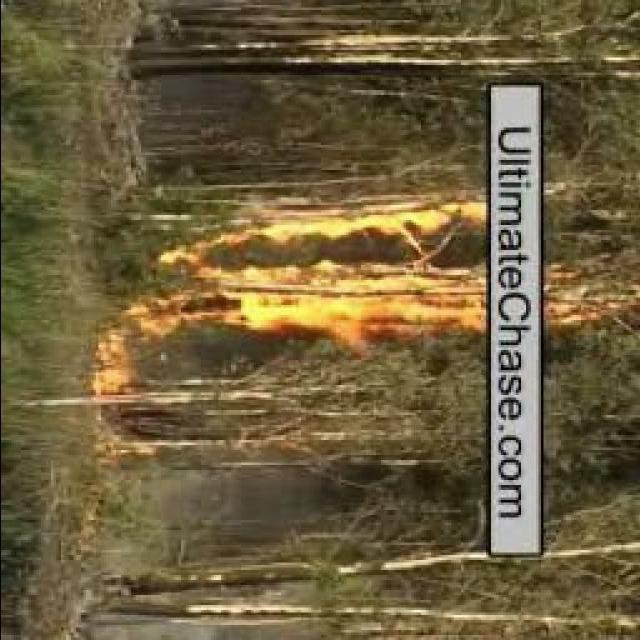Fire: (161, 194, 486, 340), (542, 264, 618, 342), (89, 307, 132, 414)
